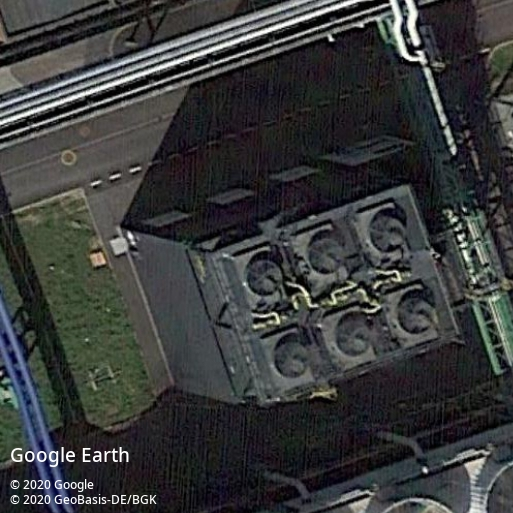Vent: (306, 237, 346, 276), (396, 297, 435, 336), (245, 259, 283, 297), (369, 215, 406, 253), (273, 341, 310, 379), (335, 320, 371, 357)
